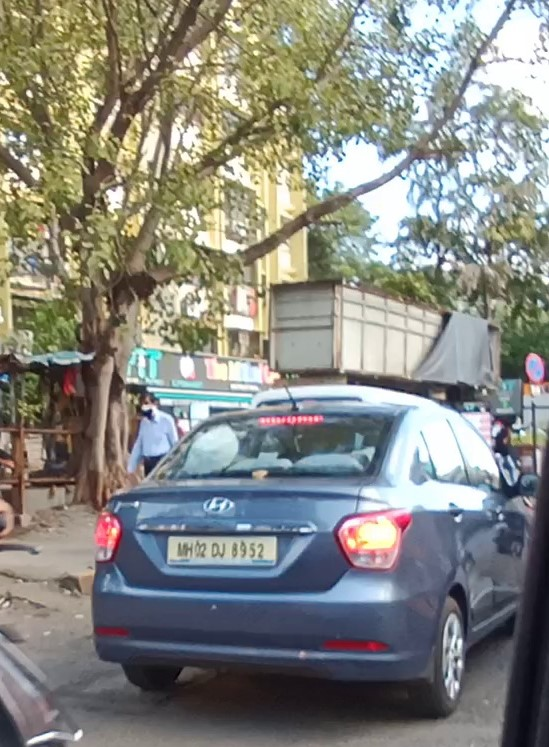MH02DJ8952: (165, 534, 278, 564)
